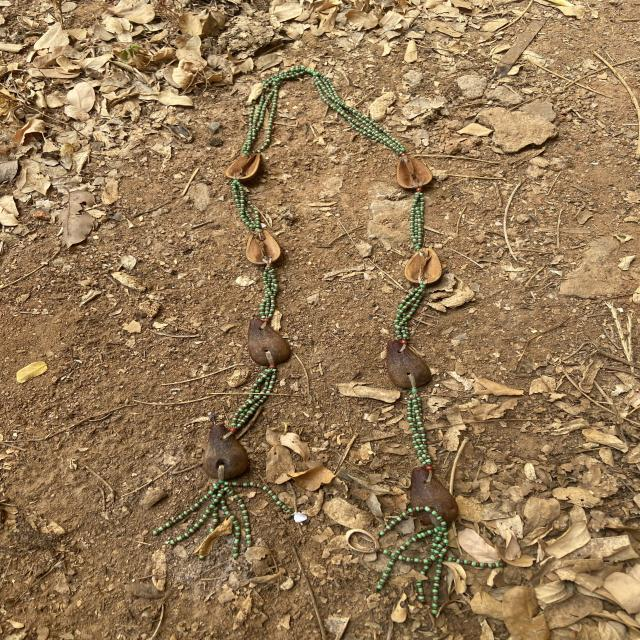facedown: (407, 460, 463, 530), (198, 420, 254, 484), (379, 337, 434, 391), (244, 315, 292, 368)
faceup: (393, 147, 438, 193), (402, 244, 446, 290), (242, 226, 284, 269), (218, 148, 267, 184)
